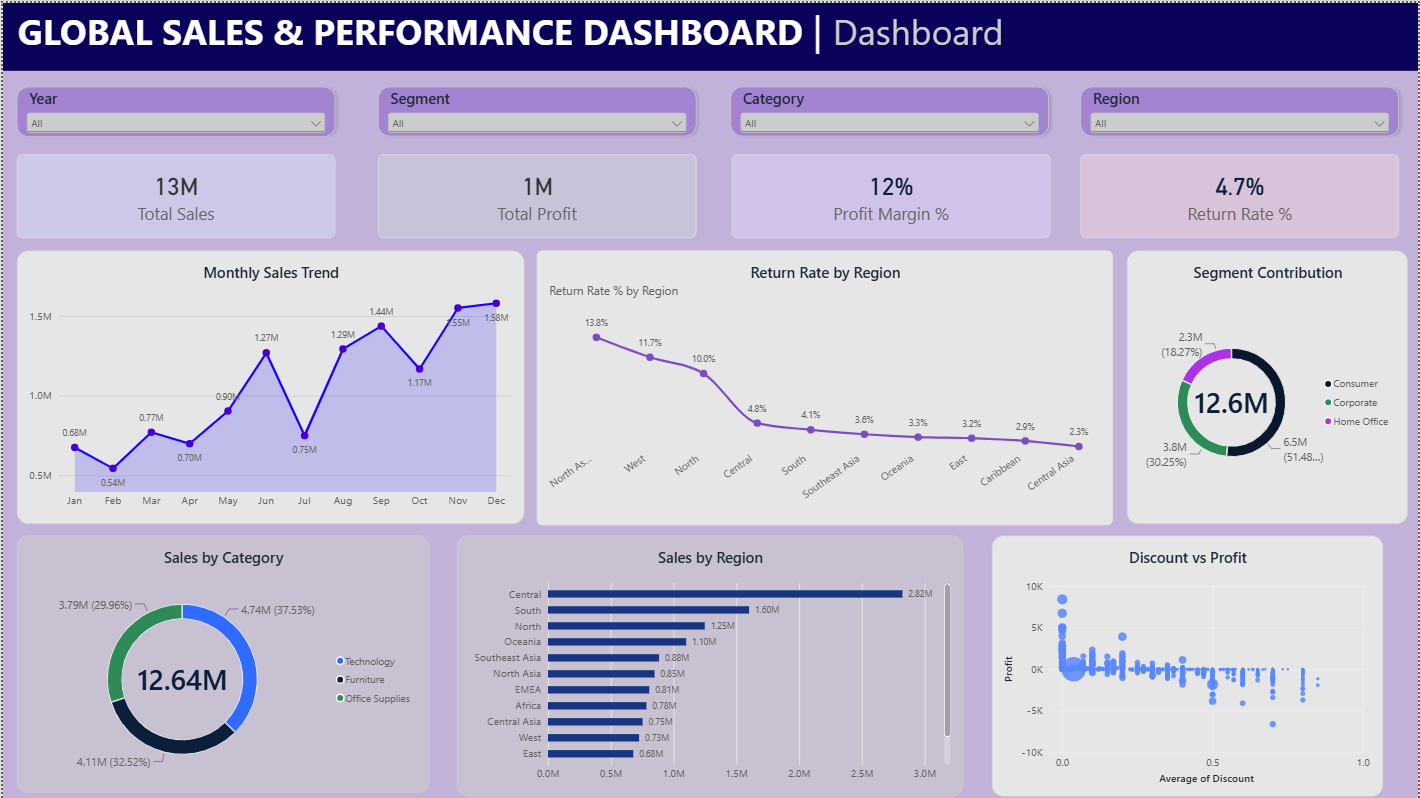

Layout of this report page (visuals, bound fields, positions):
{"tool":"powerbi","page":{"name":"Dashboard","canvas":[1920,1080],"ordinal":4},"visuals":[{"type":"advanceCardE03760C5AB684758B56AA29F9E6C257B","fields":{"mainMeasure":["Measures (2).Total Sales"]},"box":[18.5,205.8,432.2,113.2],"z":0},{"type":"advanceCardE03760C5AB684758B56AA29F9E6C257B","fields":{"mainMeasure":["Measures (2).Total Profit"]},"box":[508.4,205.8,432.2,113.2],"z":1000},{"type":"advanceCardE03760C5AB684758B56AA29F9E6C257B","fields":{"mainMeasure":["Measures (2).Return Rate %"]},"box":[1461.4,205.8,432.2,113.2],"z":2000},{"type":"advanceCardE03760C5AB684758B56AA29F9E6C257B","fields":{"mainMeasure":["Measures (2).Profit Margin %"]},"box":[988,205.8,432.2,113.2],"z":3000},{"type":"textbox","box":[0,0,1920,92.4],"z":4000},{"type":"slicer","fields":{"Values":["DateTable.Year"]},"box":[18.5,113.2,432.2,67.9],"z":5000},{"type":"slicer","fields":{"Values":["Orders.Region"]},"box":[1462.2,113.9,432,67],"z":6000},{"type":"slicer","fields":{"Values":["Orders.Segment"]},"box":[509.3,113.4,432,67],"z":7000},{"type":"slicer","fields":{"Values":["Orders.Category"]},"box":[987.2,113.4,432,67],"z":8000},{"type":"lineChart","title":"Monthly Sales Trend","fields":{"Category":["DateTable.Month Name"],"Y":["Measures (2).Total Sales"]},"box":[18.7,335.8,688.6,371.4],"z":9000},{"type":"clusteredBarChart","title":"Sales by Region","fields":{"Category":["Orders.Region"],"Y":["Measures (2).Total Sales"]},"box":[615.6,722.5,686.9,354.5],"z":10000},{"type":"donutChart","title":"Sales by Category","fields":{"Category":["Orders.Category"],"Y":["Measures (2).Total Sales"]},"box":[18.7,722.5,559.7,349.4],"z":11000},{"type":"lineChart","title":"Return Rate by Region","fields":{"Category":["Orders.Region"],"Y":["Measures (2).Return Rate %"]},"box":[724.2,335.8,781.9,373.1],"z":12000},{"type":"scatterChart","title":"Discount vs Profit","fields":{"Size":["Sum(Orders.Sales)"],"X":["Avg(Orders.Discount)"],"Y":["Orders.Profit"]},"box":[1341.5,722.5,530.8,354.5],"z":13000},{"type":"donutChart","title":"Segment Contribution","fields":{"Category":["Orders.Segment"],"Y":["Measures (2).Total Sales"]},"box":[1524.7,335.8,381.6,371.4],"z":14000}]}

Visuals, with their boxes in screenshot pixels (x1, y1, x2, y2), scaled from the page's 1920x1080 canvas onto the 1420x798 screenshot:
advanceCardE03760C5AB684758B56AA29F9E6C257B - Measures (2).Total Sales: [x1=14, y1=152, x2=333, y2=236]
advanceCardE03760C5AB684758B56AA29F9E6C257B - Measures (2).Total Profit: [x1=376, y1=152, x2=696, y2=236]
advanceCardE03760C5AB684758B56AA29F9E6C257B - Measures (2).Return Rate %: [x1=1081, y1=152, x2=1400, y2=236]
advanceCardE03760C5AB684758B56AA29F9E6C257B - Measures (2).Profit Margin %: [x1=731, y1=152, x2=1050, y2=236]
textbox: [x1=0, y1=0, x2=1419, y2=68]
slicer - DateTable.Year: [x1=14, y1=84, x2=333, y2=134]
slicer - Orders.Region: [x1=1081, y1=84, x2=1401, y2=134]
slicer - Orders.Segment: [x1=377, y1=84, x2=696, y2=133]
slicer - Orders.Category: [x1=730, y1=84, x2=1050, y2=133]
"Monthly Sales Trend" lineChart: [x1=14, y1=248, x2=523, y2=523]
"Sales by Region" clusteredBarChart: [x1=455, y1=534, x2=963, y2=796]
"Sales by Category" donutChart: [x1=14, y1=534, x2=428, y2=792]
"Return Rate by Region" lineChart: [x1=536, y1=248, x2=1114, y2=524]
"Discount vs Profit" scatterChart: [x1=992, y1=534, x2=1385, y2=796]
"Segment Contribution" donutChart: [x1=1128, y1=248, x2=1410, y2=523]
